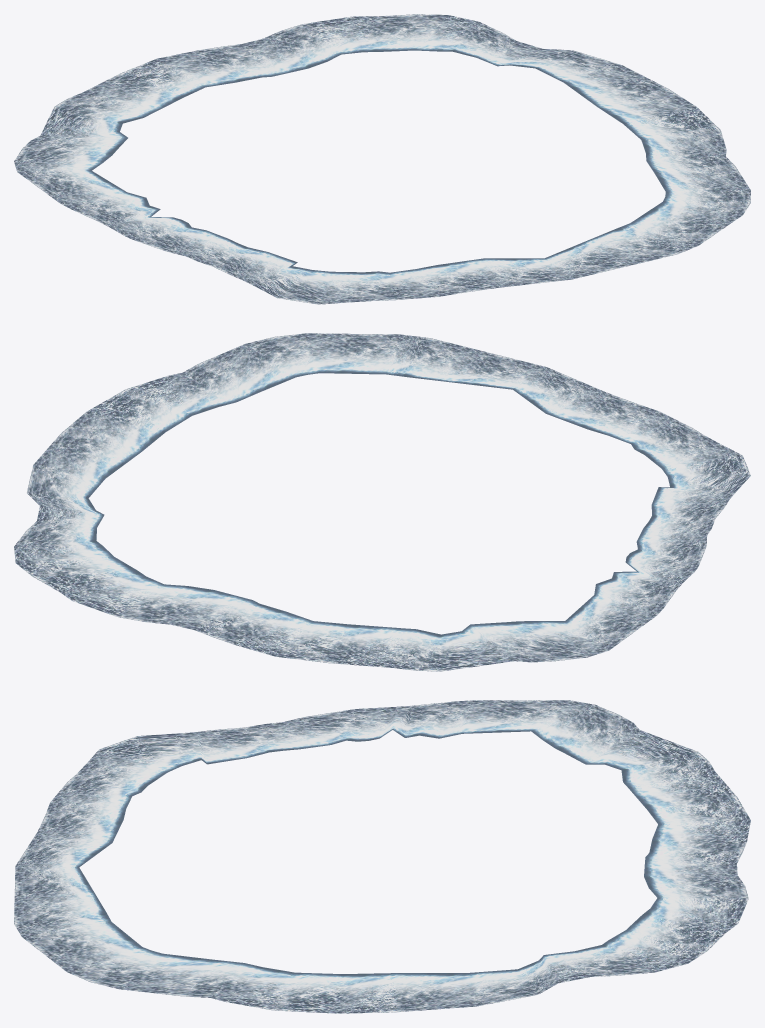
Rendered from island_14_coast.fbx.
The picture shows the model from 3 angles, top to bottom: view 1: azimuth 30°, elevation 25°; view 2: azimuth 150°, elevation 25°; view 3: azimuth 270°, elevation 25°; orthographic projection. The views are drawn at different scales.
Parts seen in each view (by area): view 1: island_14_coast1; view 2: island_14_coast1; view 3: island_14_coast1.
Boxes of the visible parts, left/top/right/bottom form: island_14_coast1: left=14, top=14, right=750, bottom=304; island_14_coast1: left=14, top=333, right=750, bottom=671; island_14_coast1: left=14, top=700, right=750, bottom=1013.
Bounding box in the file's own units: 52.34 × 0 × 52.
